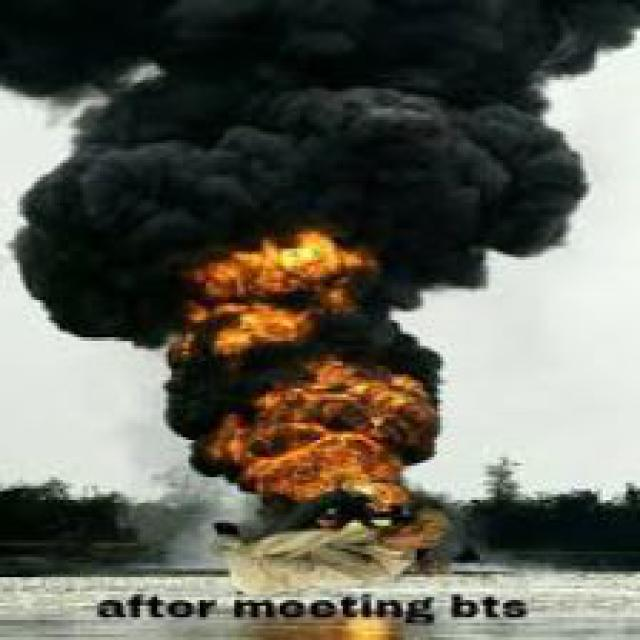fire: (168, 232, 446, 548)
